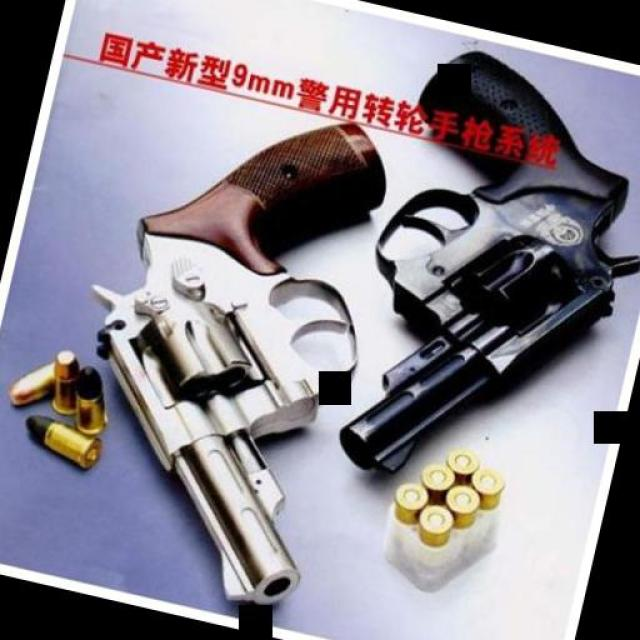gun: (28, 67, 408, 618), (325, 35, 640, 519)
